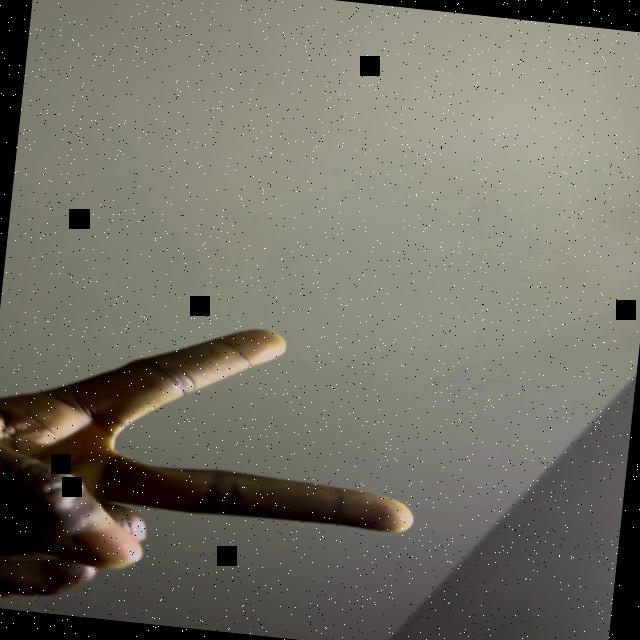Scissors: (0, 300, 439, 640)
